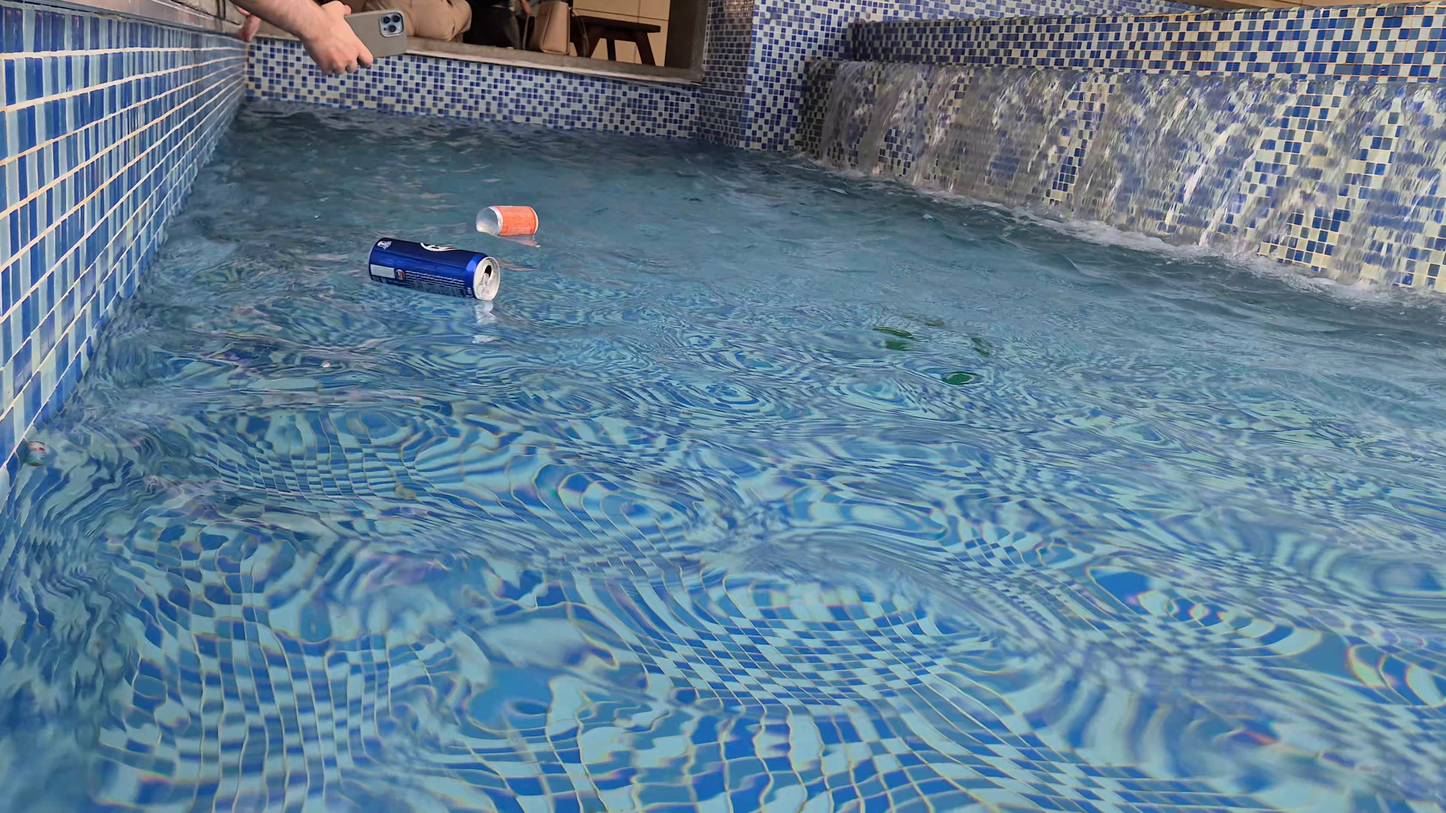debris: (366, 231, 504, 309), (474, 198, 541, 241)
